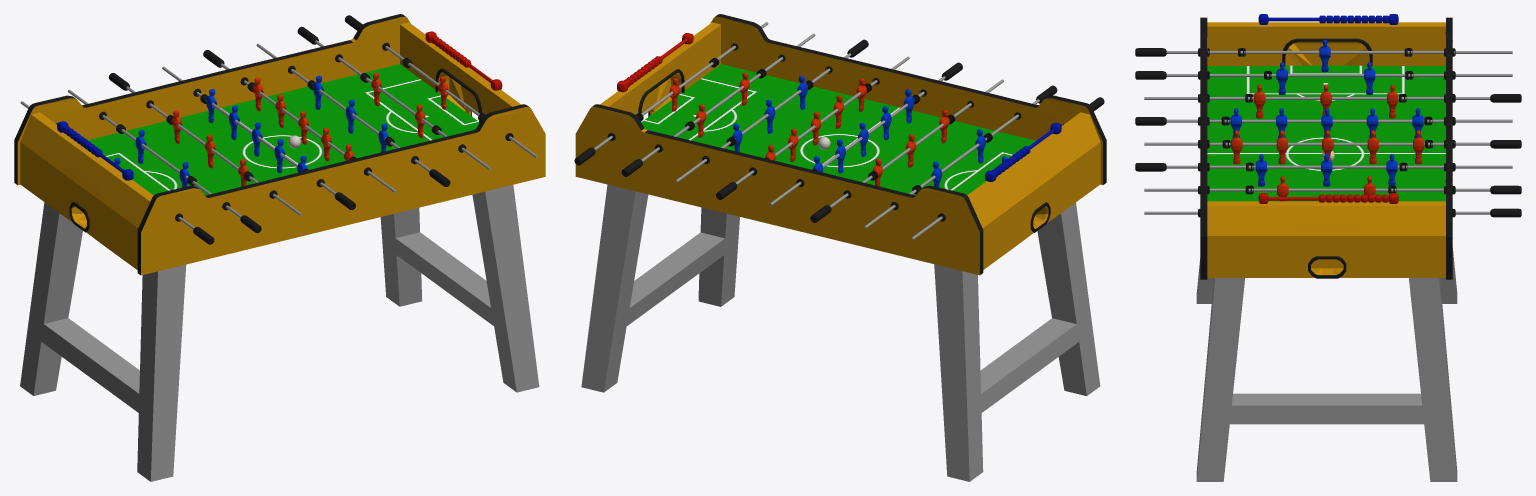
The model's file is sweethome3d-blendswap-cc-0-football-table.glb.
3 renders of one model, left to right at view 1: azimuth 30°, elevation 25°; view 2: azimuth 150°, elevation 25°; view 3: azimuth 270°, elevation 25°, orthographic.
Visible parts, largest first — view 1: sides_Cube, table_legs_Plane.001, pitch_Plane, end_wall_Circle, player.m.b_Cube.006, player.m.r_Cube.004, handle.d.b_Cylinder.014, handle.d.r_Cylinder.009, side_rings_Cylinder.001, handle.a.b_Cylinder.010, handle.a.r_Cylinder.013, handle.m.b_Cylinder.012 (+4 smaller); view 2: sides_Cube, table_legs_Plane.001, pitch_Plane, end_wall_Circle, player.m.b_Cube.006, player.m.r_Cube.004, handle.d.r_Cylinder.009, handle.d.b_Cylinder.014, handle.a.r_Cylinder.013, handle.a.b_Cylinder.010, handle.m.r_Cylinder.011, handle.g.r_Cylinder.008 (+4 smaller); view 3: end_wall_Circle, pitch_Plane, table_legs_Plane.001, sides_Cube, handle.d.r_Cylinder.009, handle.a.b_Cylinder.010, player.m.r_Cube.004, handle.m.b_Cylinder.012, handle.m.r_Cylinder.011, handle.g.b_Cylinder.015, handle.d.b_Cylinder.014, handle.a.r_Cylinder.013 (+9 smaller).
Part boxes in pixels (<box>): sides_Cube: <box>14,14,545,275</box>; table_legs_Plane.001: <box>20,185,539,481</box>; pitch_Plane: <box>88,64,478,195</box>; end_wall_Circle: <box>20,22,520,269</box>; player.m.b_Cube.006: <box>206,89,307,173</box>; player.m.r_Cube.004: <box>252,77,354,161</box>; handle.d.b_Cylinder.014: <box>67,89,261,233</box>; handle.d.r_Cylinder.009: <box>297,26,491,170</box>; side_rings_Cylinder.001: <box>55,42,513,221</box>; handle.a.b_Cylinder.010: <box>256,43,450,186</box>; handle.a.r_Cylinder.013: <box>108,73,302,216</box>; handle.m.b_Cylinder.012: <box>162,66,355,209</box>; sides_Cube: <box>575,14,1106,275</box>; table_legs_Plane.001: <box>581,184,1100,481</box>; pitch_Plane: <box>641,64,1035,195</box>; end_wall_Circle: <box>600,22,1100,269</box>; player.m.b_Cube.006: <box>813,89,914,173</box>; player.m.r_Cube.004: <box>765,78,866,161</box>; handle.d.r_Cylinder.009: <box>621,33,815,176</box>; handle.d.b_Cylinder.014: <box>863,85,1057,228</box>; handle.a.r_Cylinder.013: <box>810,79,1003,222</box>; handle.a.b_Cylinder.010: <box>675,39,868,182</box>; handle.m.r_Cylinder.011: <box>716,56,909,199</box>; handle.g.r_Cylinder.008: <box>574,22,768,165</box>; end_wall_Circle: <box>1207,22,1445,277</box>; pitch_Plane: <box>1207,65,1445,201</box>; table_legs_Plane.001: <box>1196,248,1457,481</box>; sides_Cube: <box>1200,17,1452,279</box>; handle.d.r_Cylinder.009: <box>1144,185,1521,194</box>; handle.a.b_Cylinder.010: <box>1135,163,1512,171</box>; player.m.r_Cube.004: <box>1231,130,1424,164</box>; handle.m.b_Cylinder.012: <box>1135,117,1512,125</box>; handle.m.r_Cylinder.011: <box>1144,140,1521,148</box>; handle.g.b_Cylinder.015: <box>1135,48,1512,56</box>; handle.d.b_Cylinder.014: <box>1135,71,1512,79</box>; handle.a.r_Cylinder.013: <box>1144,94,1521,102</box>.
Bounding box in the file's own units: 150 × 101 × 125.
Materials: 9 (1 with a texture image).
